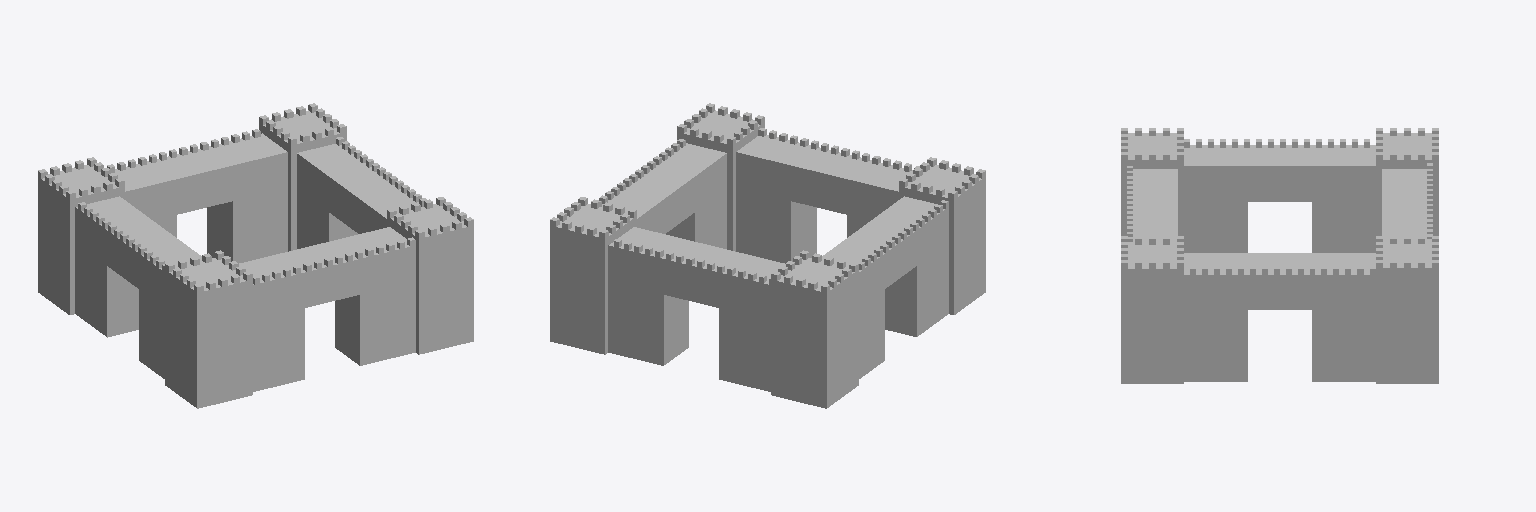
Rendered from Castle.obj.
3 views of the same model, side by side, from view 1: azimuth 30°, elevation 25°; view 2: azimuth 150°, elevation 25°; view 3: azimuth 270°, elevation 25° (orthographic).
Bounding box in the file's own units: 100 × 42 × 99.82.